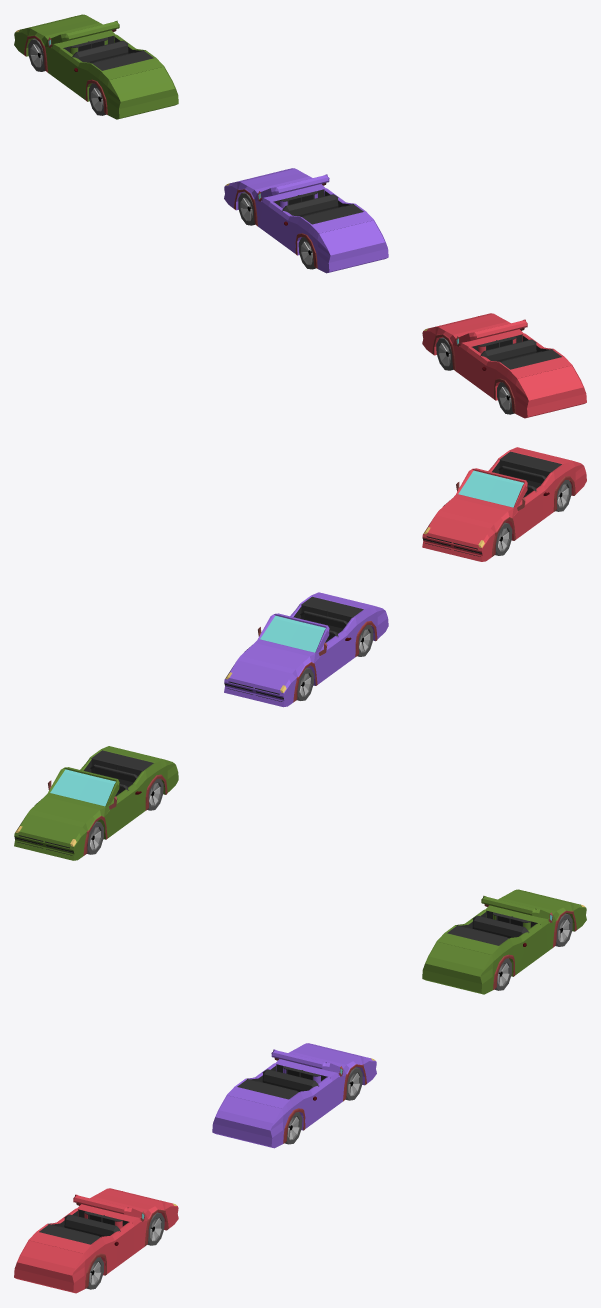
Rendered from arabalar.fbx.
The picture shows the model from 3 angles, top to bottom: view 1: azimuth 30°, elevation 25°; view 2: azimuth 150°, elevation 25°; view 3: azimuth 330°, elevation 25°; orthographic projection.
Parts seen in each view (by area): view 1: araba, araba.001, araba.002; view 2: araba.002, araba.001, araba; view 3: araba, araba.001, araba.002.
Part boxes in pixels (bbox=[...]): araba: bbox=[422, 313, 586, 418]; araba.001: bbox=[224, 168, 388, 273]; araba.002: bbox=[14, 14, 178, 119]; araba.002: bbox=[14, 746, 178, 860]; araba.001: bbox=[224, 592, 388, 707]; araba: bbox=[422, 447, 586, 561]; araba: bbox=[14, 1188, 178, 1293]; araba.001: bbox=[212, 1043, 376, 1148]; araba.002: bbox=[422, 889, 586, 994].
Size of the model in its own units: 157 by 119 by 2019.
